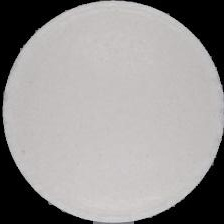51079-810: (0, 0, 224, 224)
